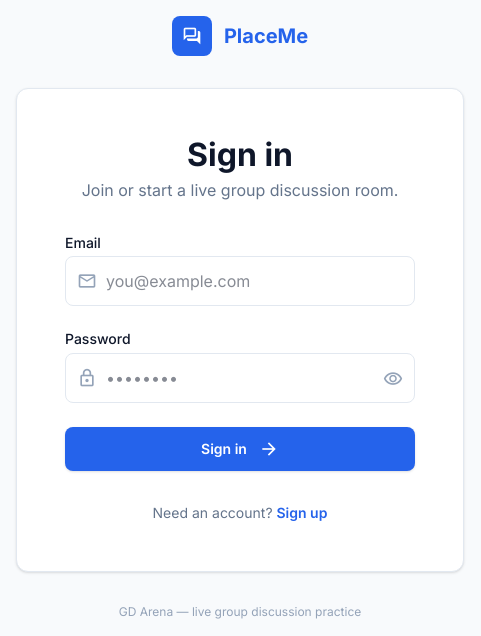
LoginPage busy state › shows a spinner and busy label while signing in, hiding the idle arrow icon
This screenshot has width=481, height=636.
In the field labelled "Email": coordinates (240, 282) [65,256,415,306], type "student@test.edu"
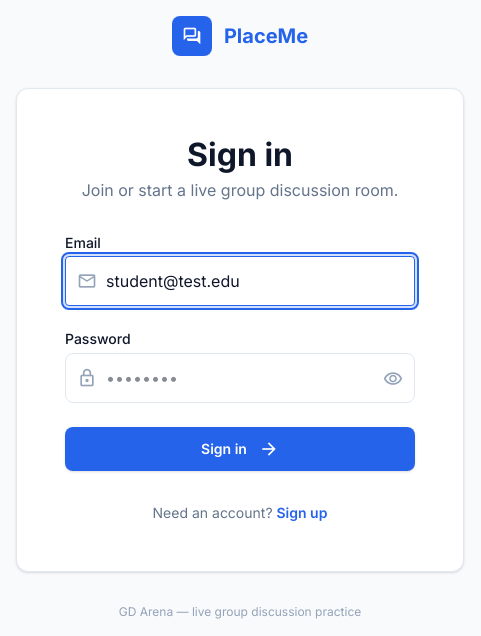
In the password field labelled "Password": coordinates (240, 378) [65,353,415,403], type "password123"
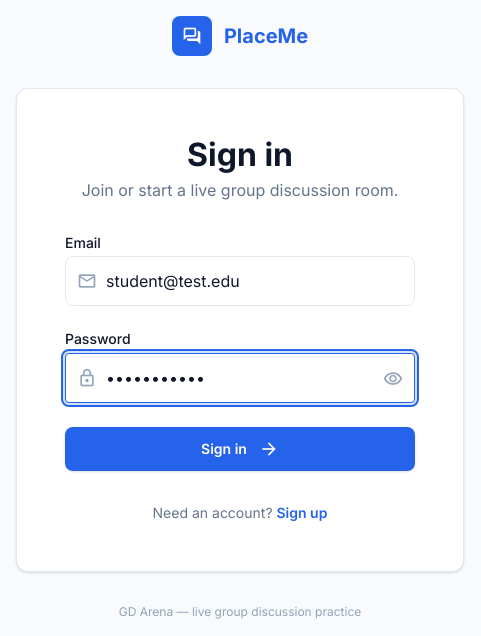
Click the button "Sign in": coordinates (240, 449) [65,427,415,471]
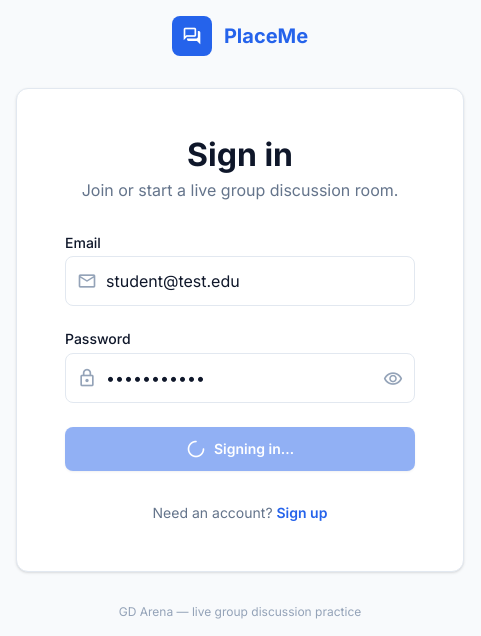
Expected: the 5th text "progress_activity" is shown, [186,437,206,461]
Result: the text "Signing in…" is shown at [186,439,294,459]
